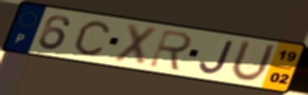6: (38, 14, 72, 51)
C: (72, 19, 112, 58)
J: (198, 39, 236, 76)
R: (146, 28, 195, 74)
U: (228, 38, 279, 84)
X: (110, 22, 161, 68)
